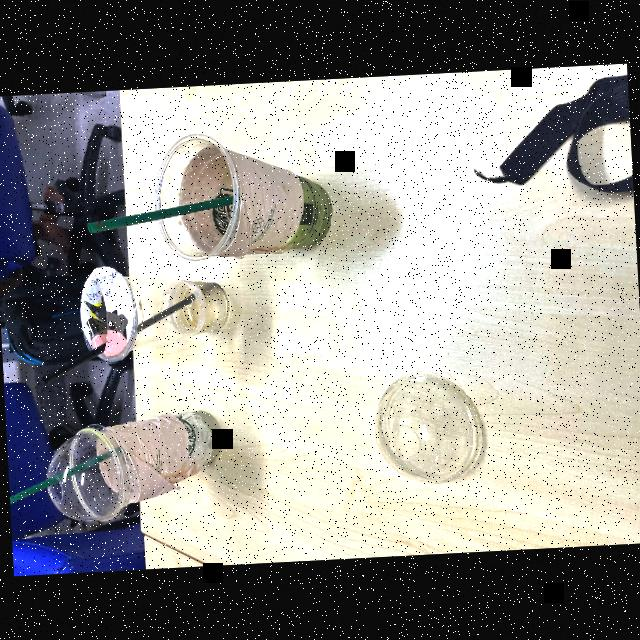plastic_cup: (153, 123, 344, 264), (59, 388, 224, 530), (79, 270, 238, 366)
plastic_cup_lid: (364, 362, 488, 493), (42, 423, 122, 536)
straw: (26, 289, 207, 388), (73, 182, 250, 252), (7, 441, 125, 512)
